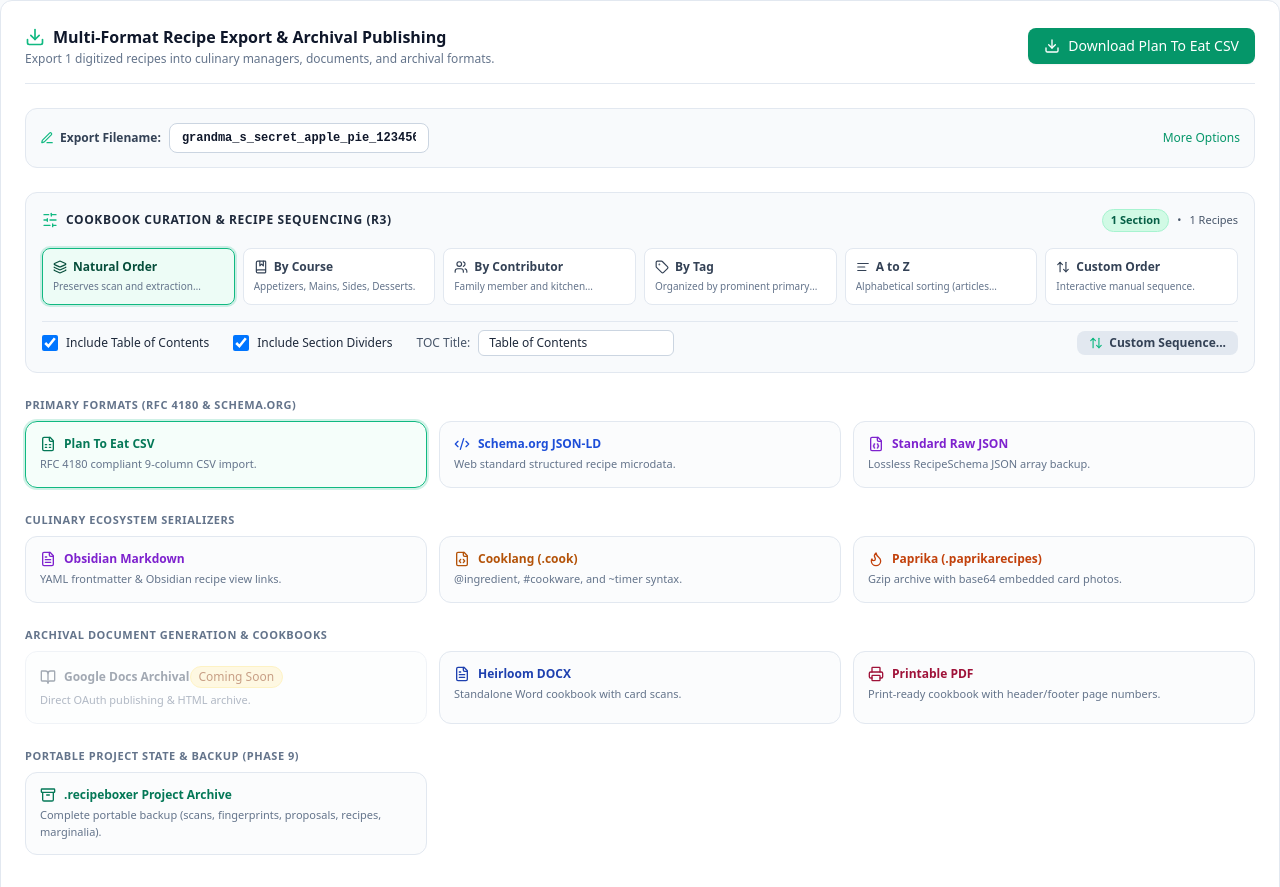
it: R5: Multi-Format Recipe Export Subsystem › ExportDialog UI Component › opens customize filename modal and applies new filename
Click the button "More Options". click: [1201, 138]
box: [1163, 130, 1240, 146]
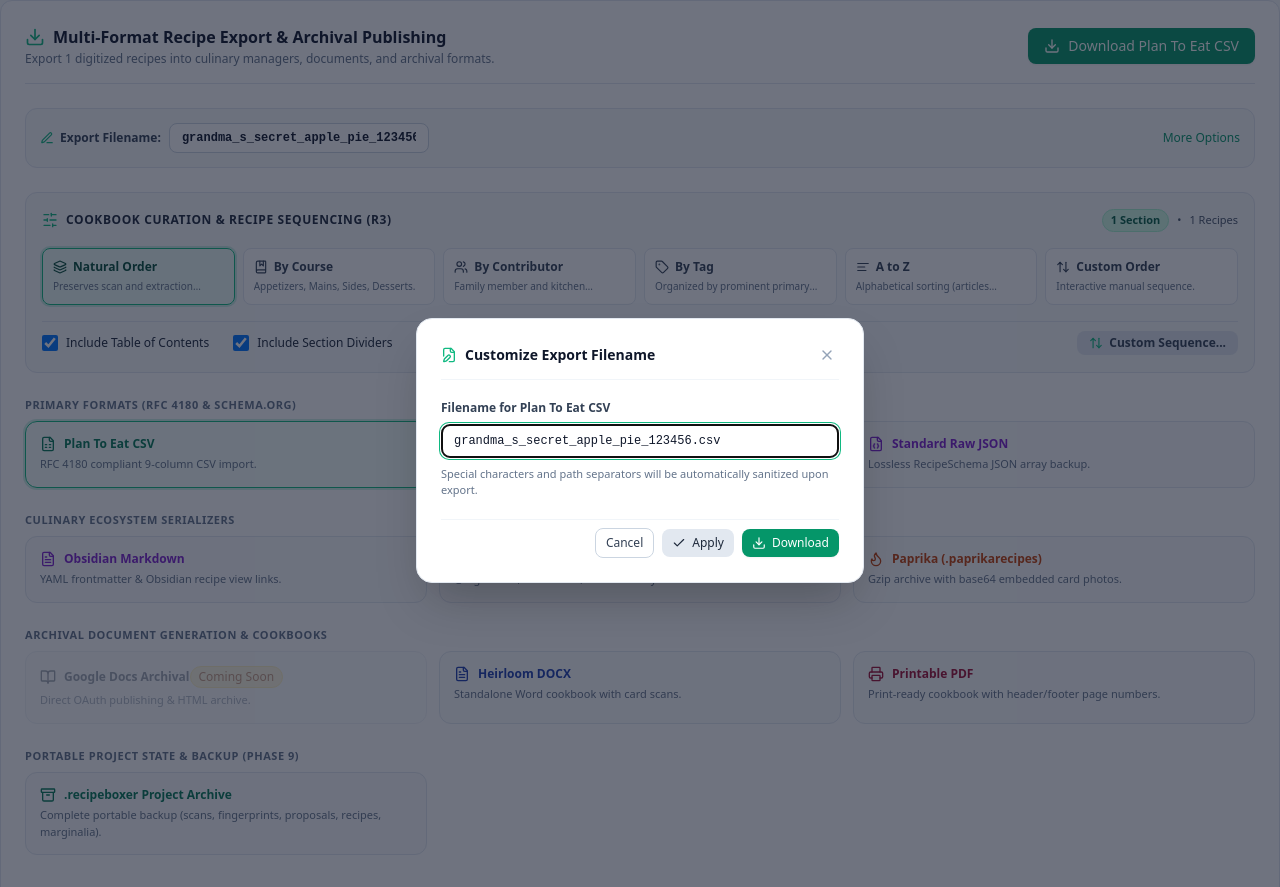
Now the dialog is shown, box [416, 318, 864, 582]
Now the heading "Customize Export Filename" is shown, box [465, 344, 655, 364]
Replace the text in the field labelled "Filename for Plan To Eat CSV" with "custom_holiday_deck.csv". click: [640, 440]
box: [441, 424, 839, 458]
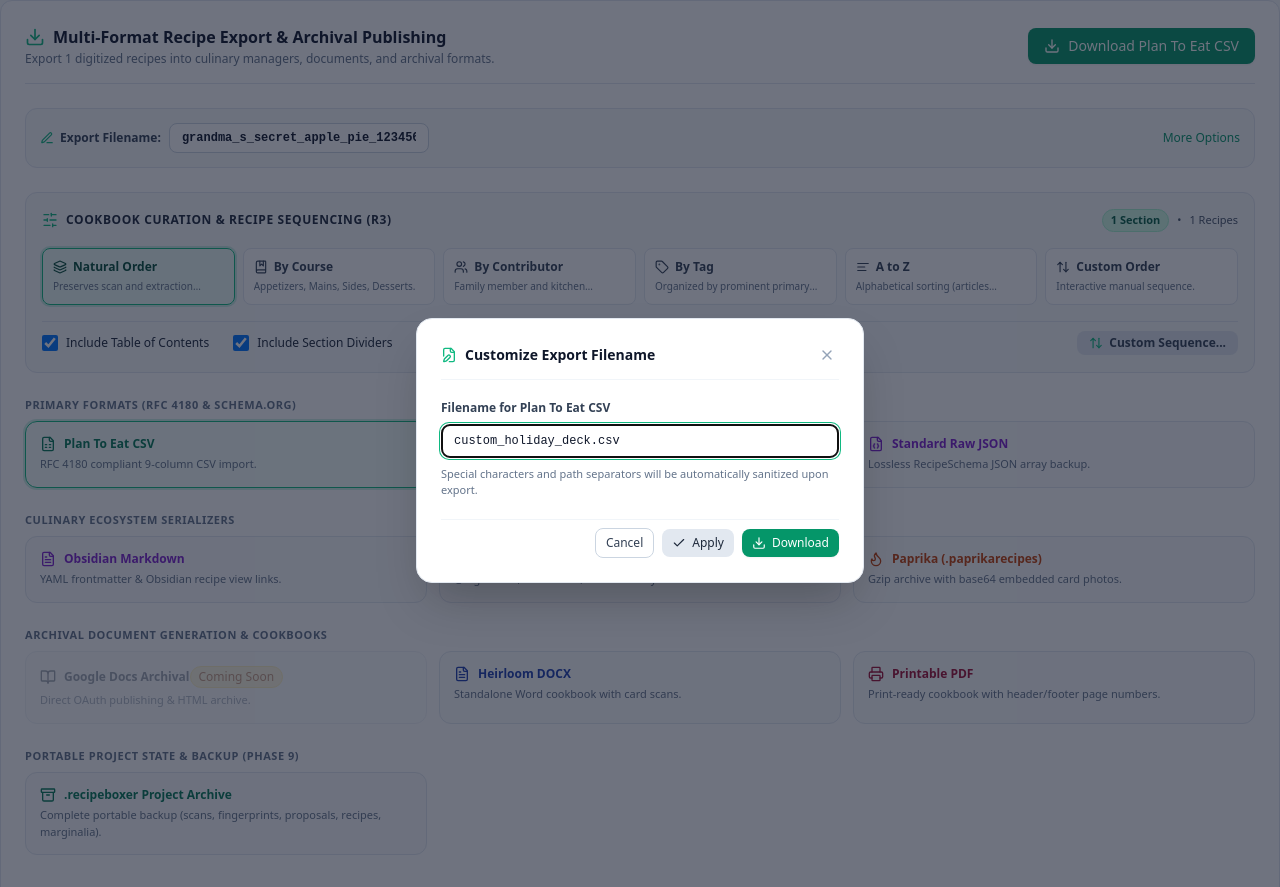
Click the button "Apply". click: [698, 542]
box: [662, 528, 734, 556]
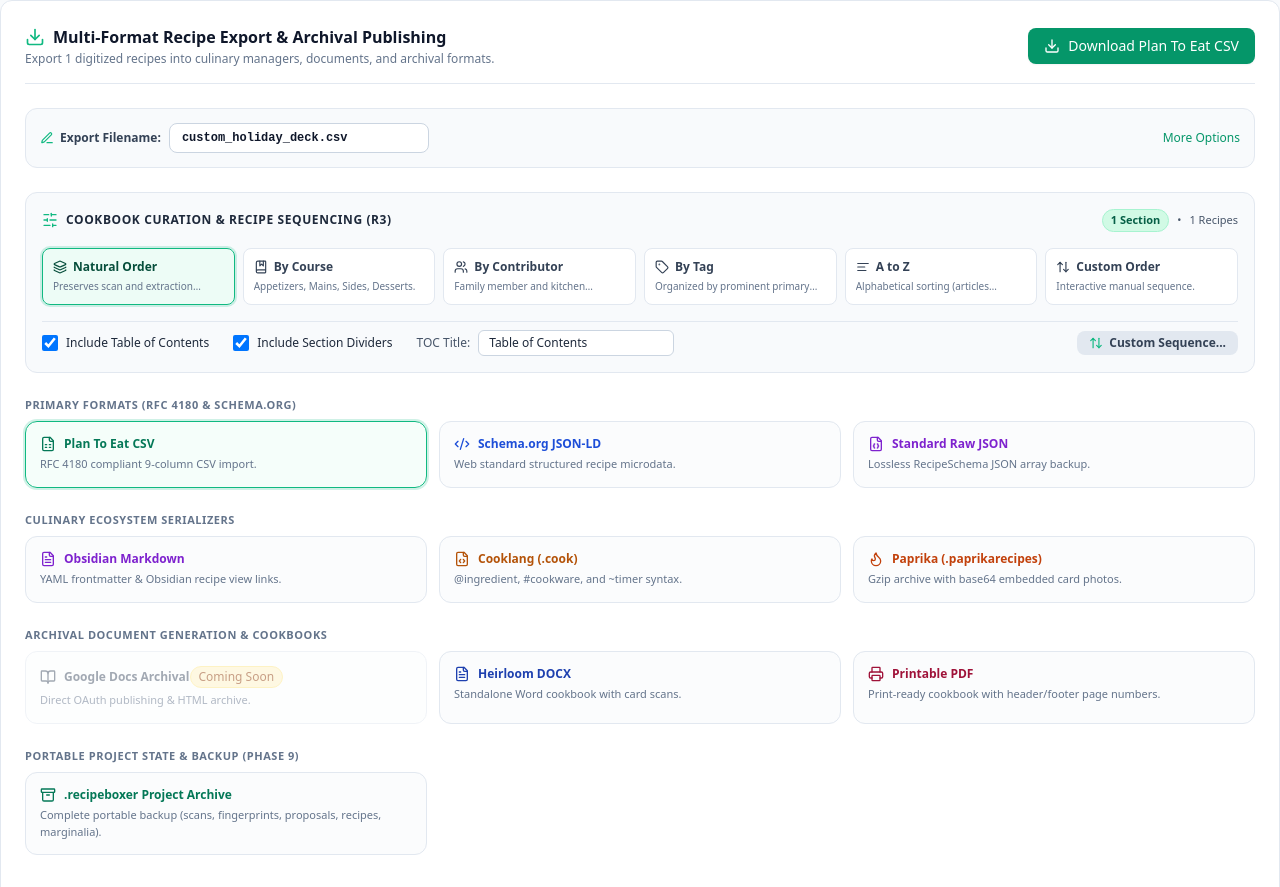
Now the dialog is gone
Now the field labelled "Export Filename:" holds "custom_holiday_deck.csv", box [169, 123, 429, 153]
